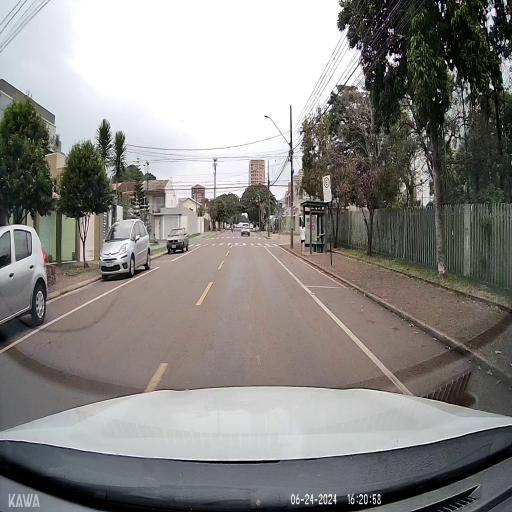R-6b: (324, 178, 330, 188)
